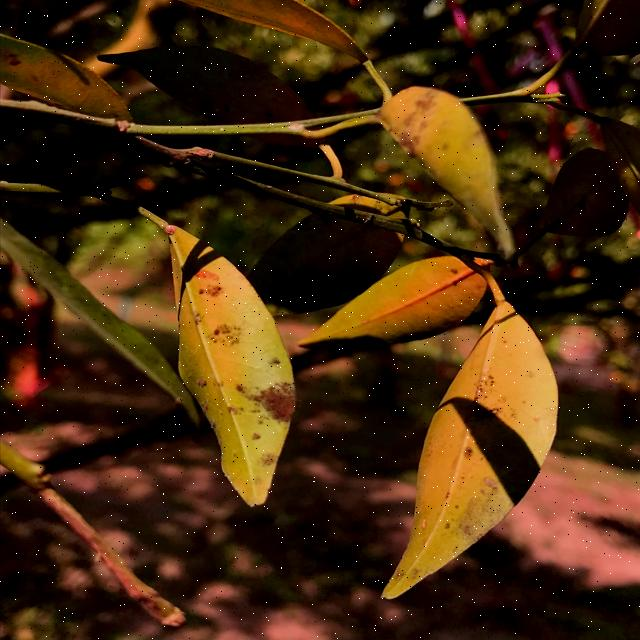canker: (388, 341, 544, 560), (167, 262, 290, 484), (385, 88, 492, 188), (0, 38, 107, 114)
